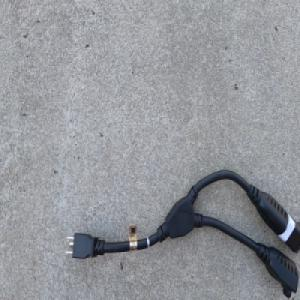Wire: (64, 167, 300, 299)
